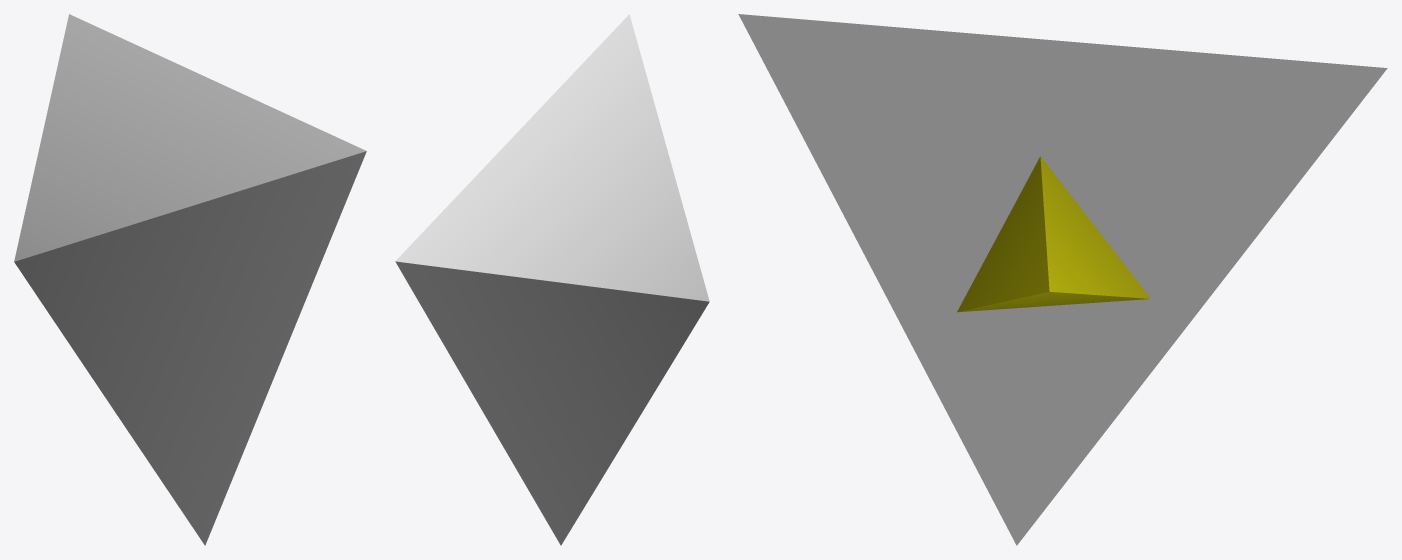
File: c_flower_triangle_ab.fbx
The picture shows the model from 3 angles, left to right: view 1: azimuth 30°, elevation 25°; view 2: azimuth 150°, elevation 25°; view 3: azimuth 270°, elevation 25°; orthographic projection. The views are drawn at different scales.
Visible parts, largest first — view 1: c_flower_triangle_ab; view 2: c_flower_triangle_ab; view 3: c_flower_triangle_ab.
Part boxes in pixels (box(x1,y1,x2,y2)): c_flower_triangle_ab: box(14, 14, 366, 545); c_flower_triangle_ab: box(395, 14, 709, 545); c_flower_triangle_ab: box(738, 14, 1387, 545).
Size of the model in its own units: 0.1739 by 0.3199 by 0.3377.
